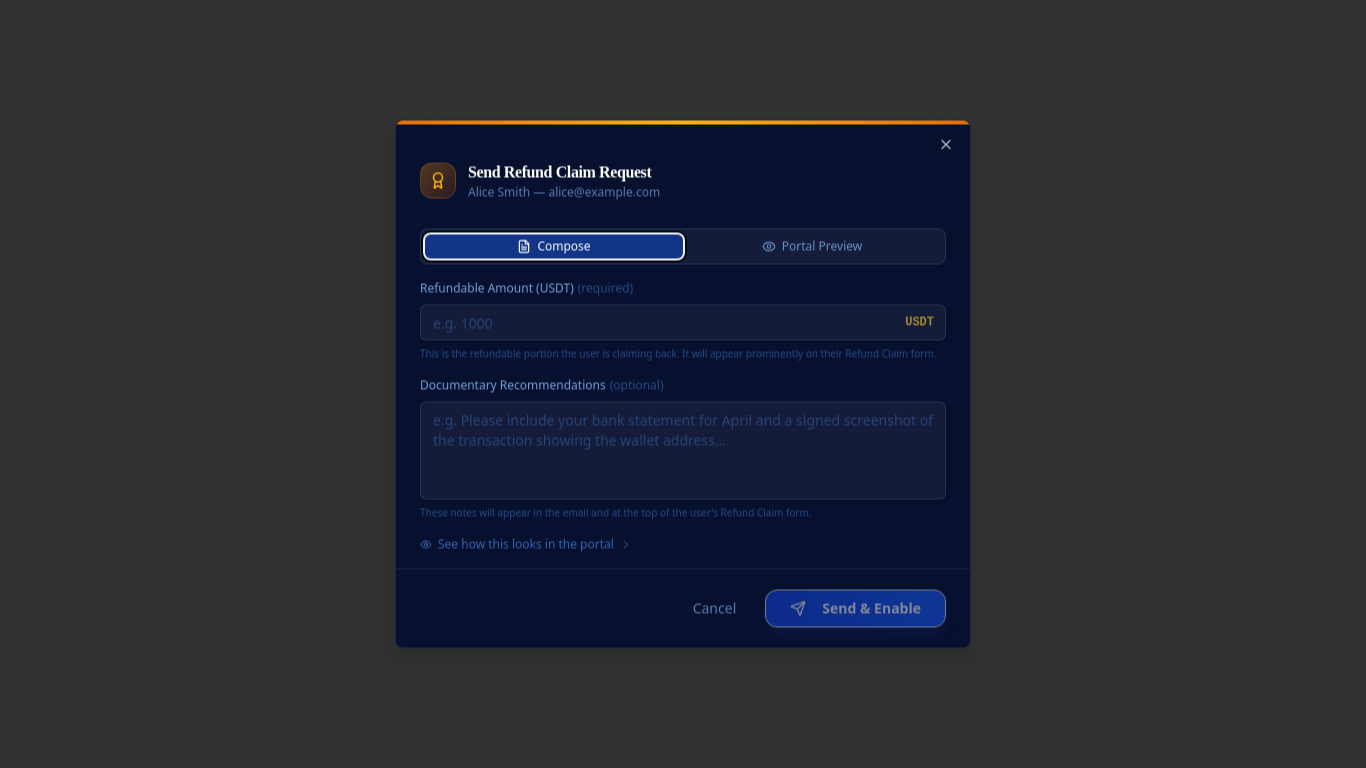
RefundClaimRequestDialog › enables the send button once a refundable amount is entered
Type "750" into the number field with placeholder "e.g. 1000" at x=683, y=322, box [420, 304, 946, 340]
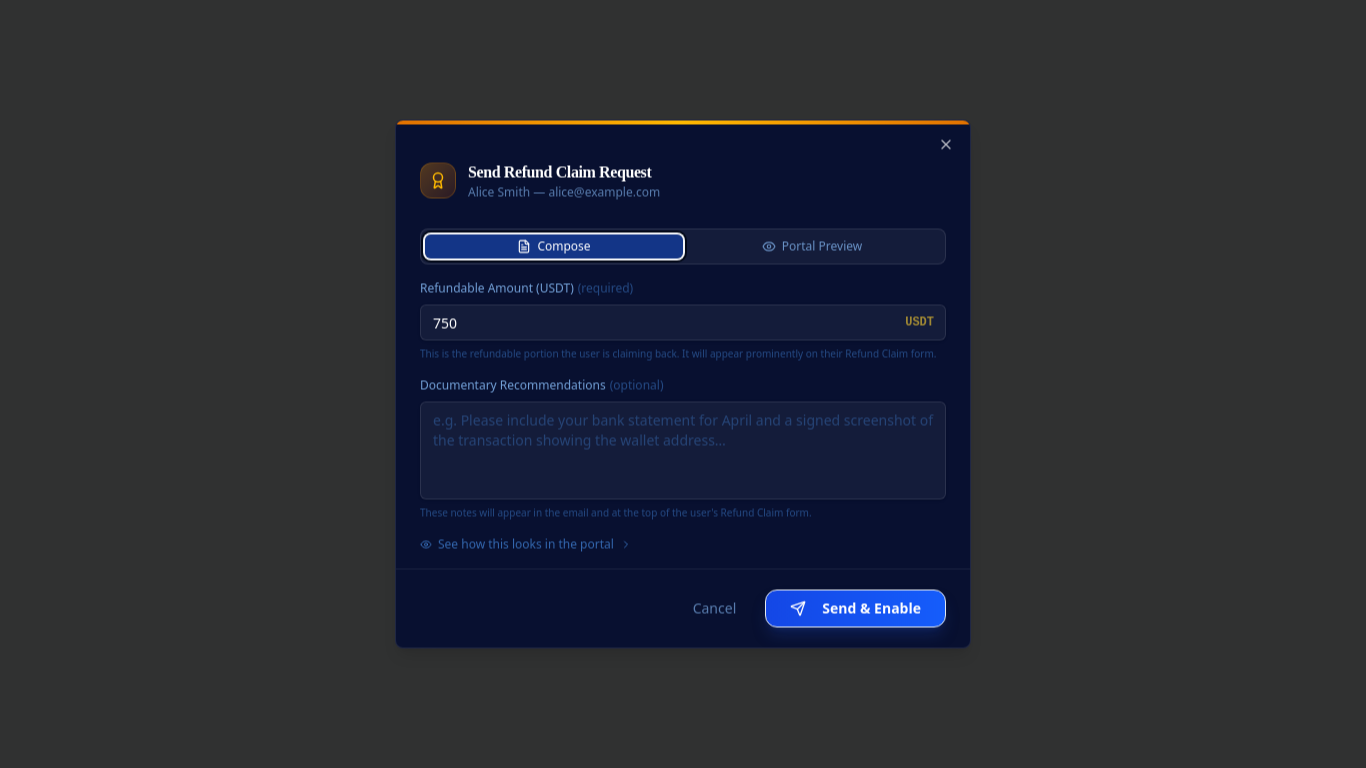
Check: the button "Send & Enable" is enabled, box [765, 590, 946, 628]
